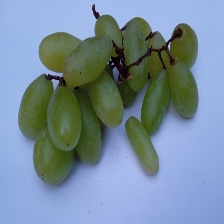grapes: (18, 18, 184, 183)
